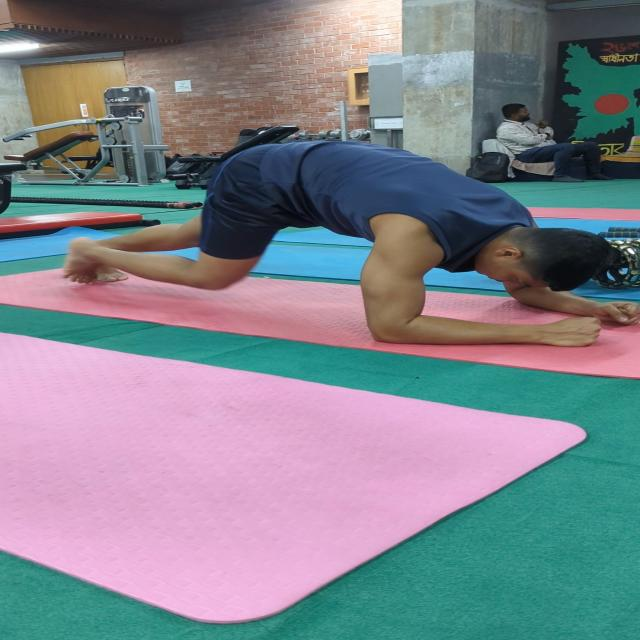Normal_MountainClimbers: (14, 121, 636, 358)
